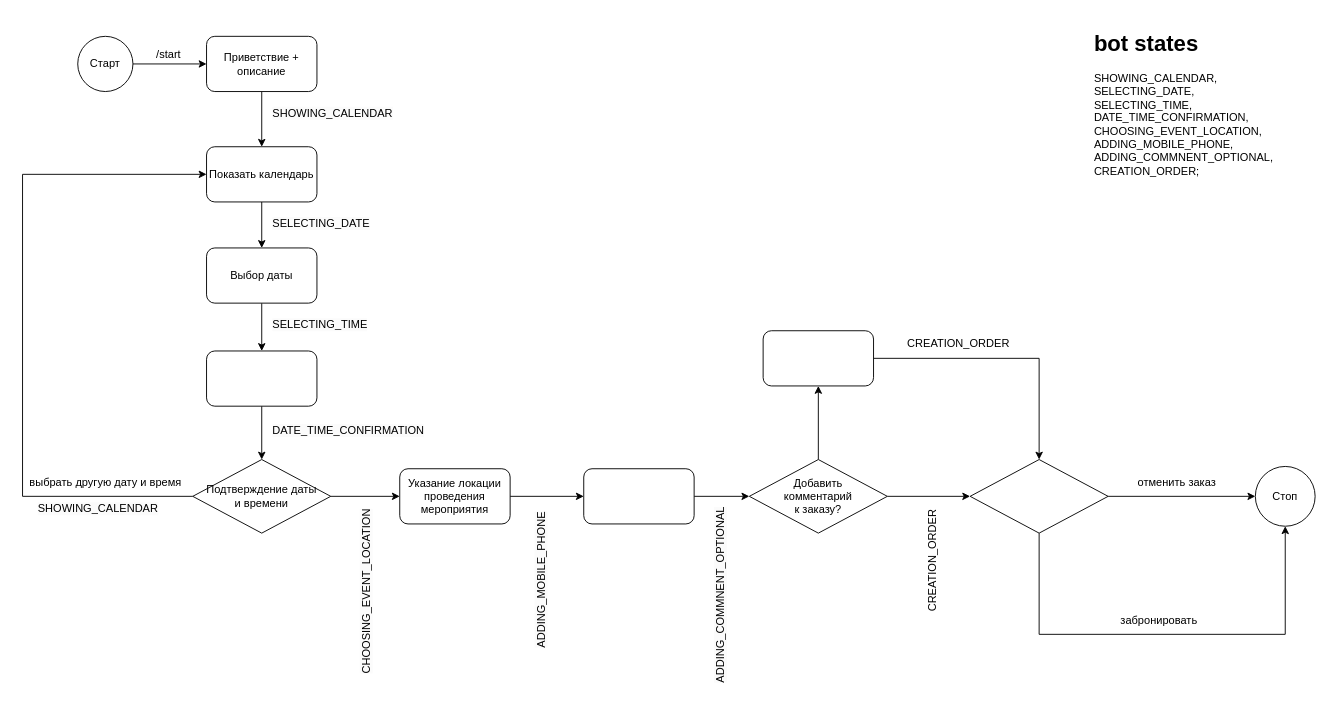
The diagram is 1331 pixels wide and 701 high, and some of its shapes have lost their labels. The shapes that lost their labels are listed below. From the top down, each one's centre as x and y in pixels, then its label:
At point 261,378: "Выбор времени".
At point 818,358: "Добавление комментария".
At point 638,496: "Указание мобильного телефона".
At point 1038,496: "Подтверждение заказа".
